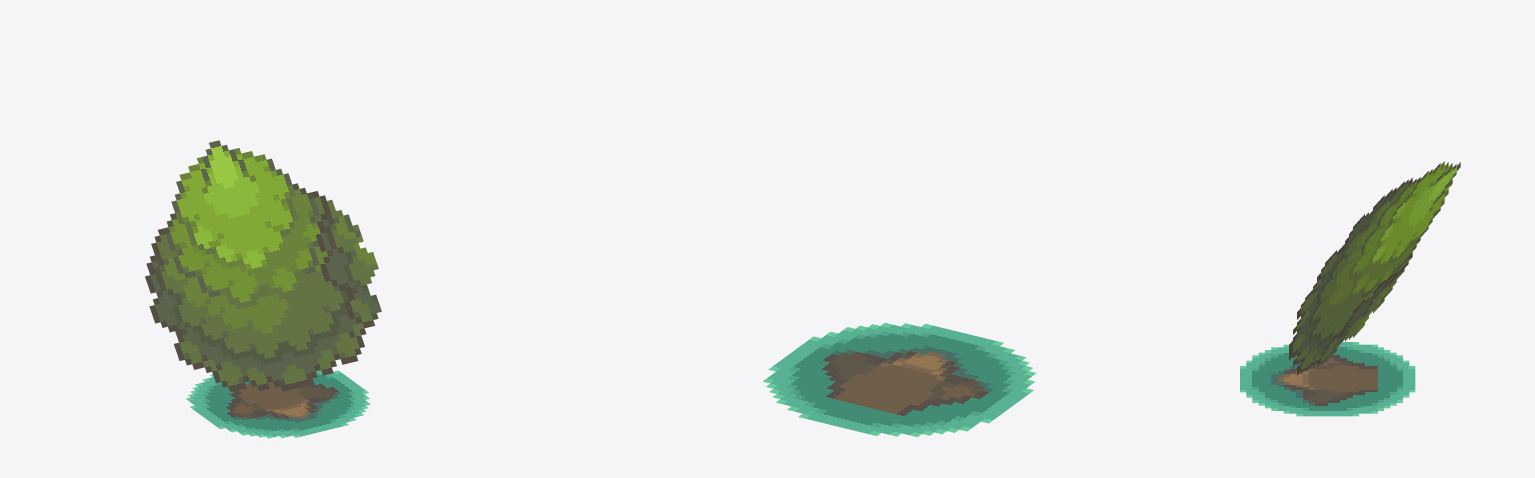
File: hgss-arbre-entier-foret-dense-lisiere.glb
3 renders of one model, left to right at view 1: azimuth 30°, elevation 25°; view 2: azimuth 150°, elevation 25°; view 3: azimuth 270°, elevation 25°, orthographic. The views are drawn at different scales.
Size of the model in its own units: 4 by 3.08 by 2.92.
2 materials, 2 textured.
